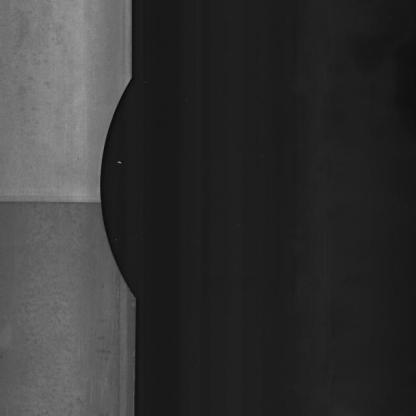crescent_gap: (93, 66, 151, 310)
welding_line: (2, 189, 113, 230)
